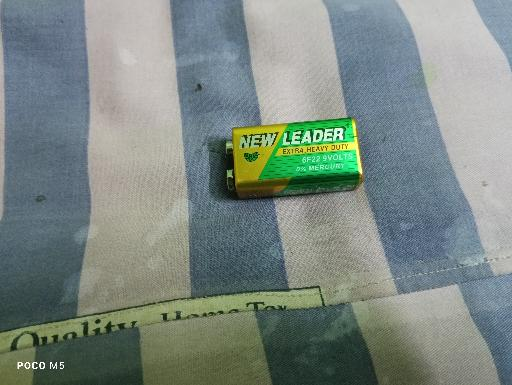Motor: (225, 116, 363, 200)
